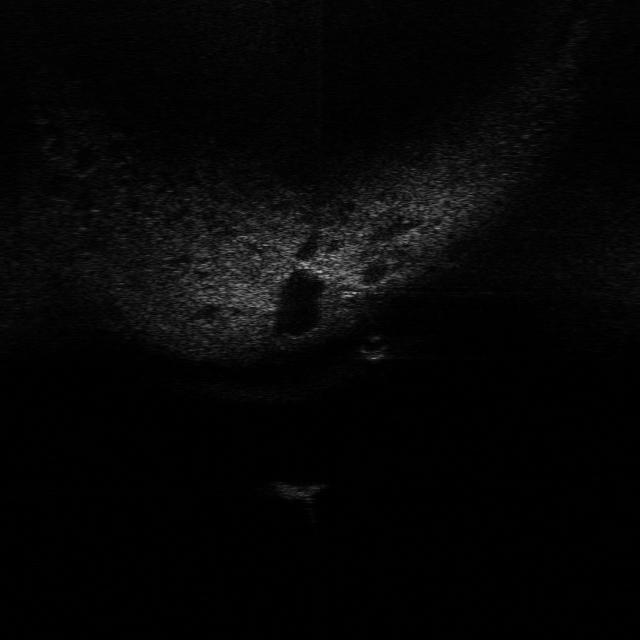ball: (353, 332, 393, 366)
cube: (266, 480, 330, 502)
